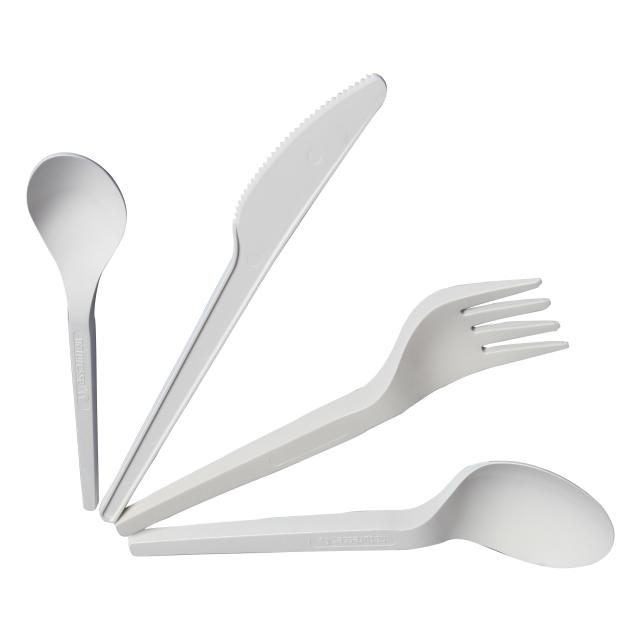Plastic: (29, 73, 390, 555), (113, 278, 617, 571), (25, 153, 130, 514)
